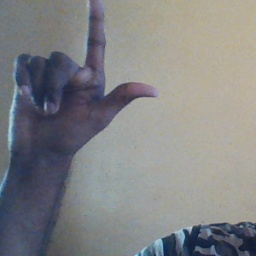L: (8, 1, 159, 154)
